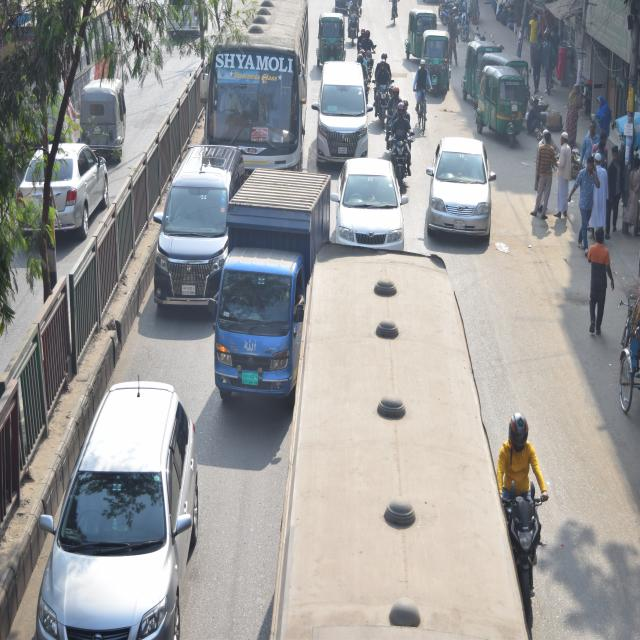bus: (306, 246, 499, 640)
car: (46, 379, 196, 640), (15, 141, 105, 228), (427, 129, 492, 241), (341, 159, 402, 248)
motorbike: (156, 143, 236, 310), (502, 485, 552, 633), (316, 49, 368, 159), (392, 130, 410, 183), (378, 80, 392, 132), (362, 45, 375, 100), (349, 17, 359, 56)
pickup-van: (212, 165, 331, 398)
